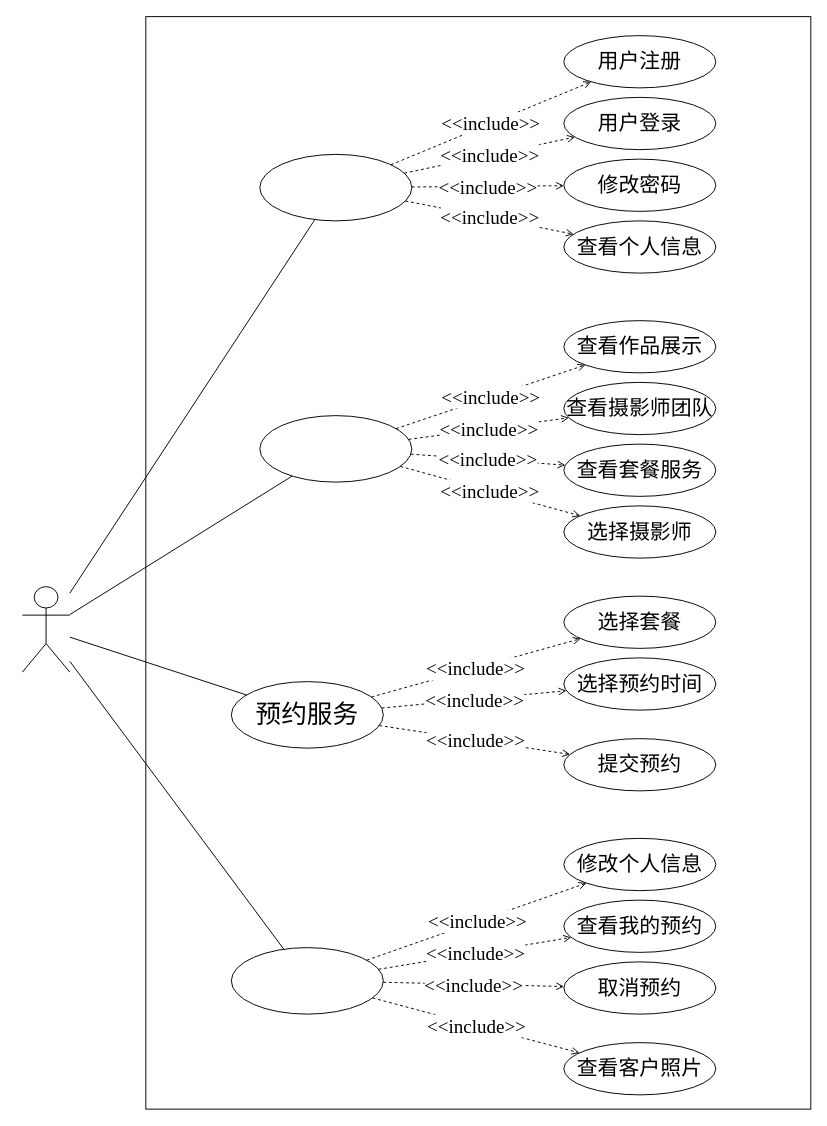
Image size: 827x1126. Some labels were removed from this diagram. Here are the shapes that lost their labels. From the top down, the centre of each, then its label:
At (x=335, y=187): "账号管理".
At (x=335, y=448): "浏览服务".
At (x=45, y=629): "客户".
At (x=306, y=980): "个人中心".
